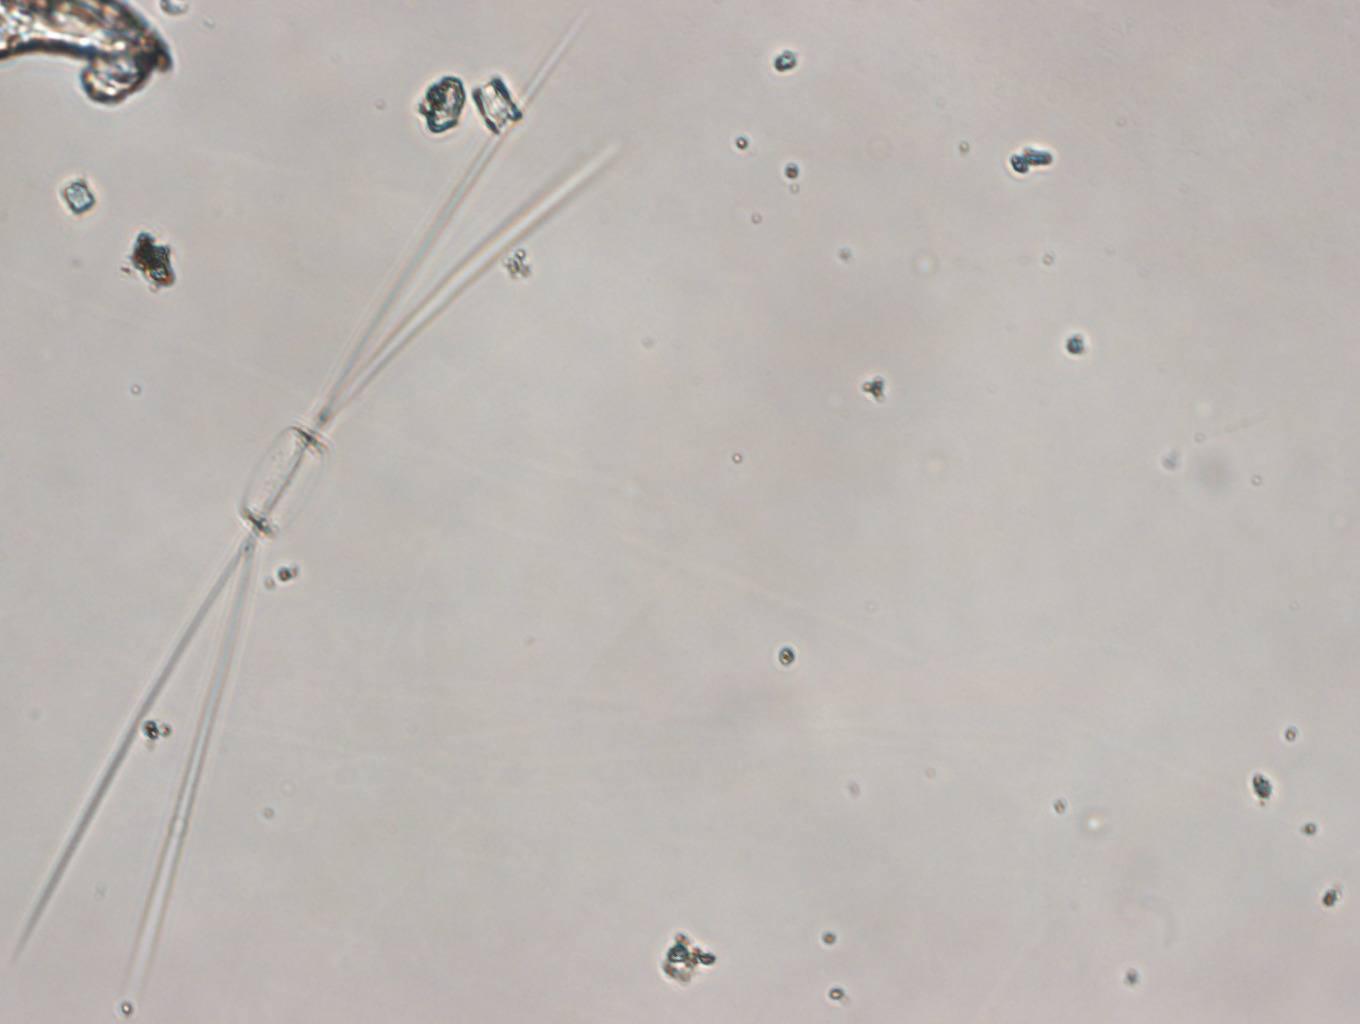chaetoceros: (25, 15, 619, 993)
